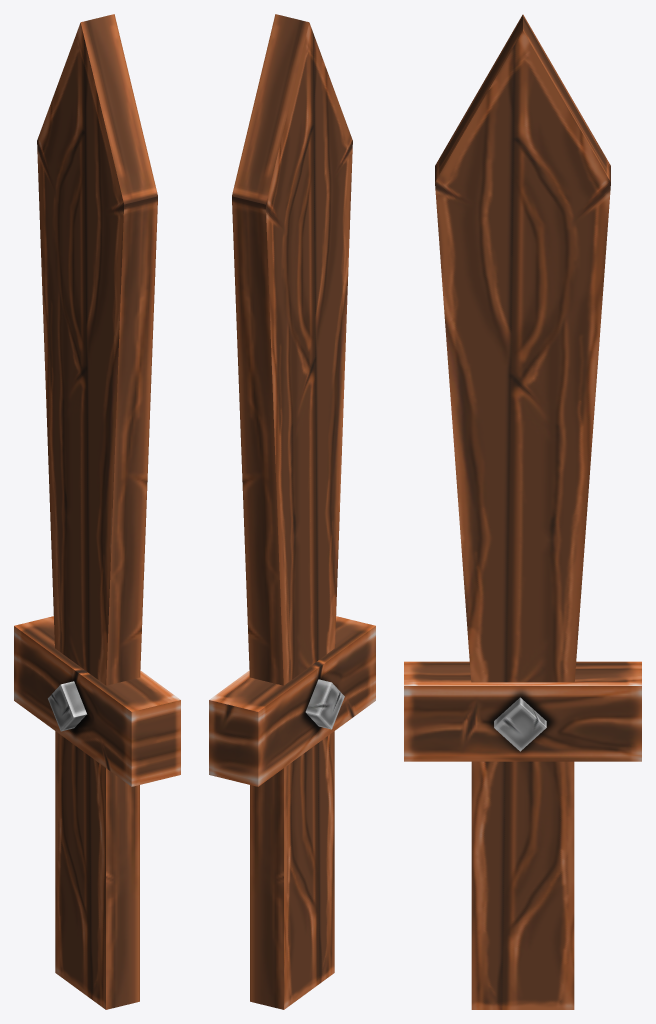
File: swordWooden.FBX
The picture shows the model from 3 angles, left to right: view 1: azimuth 30°, elevation 25°; view 2: azimuth 150°, elevation 25°; view 3: azimuth 270°, elevation 25°; orthographic projection.
Visible parts, largest first — view 1: swordWooden; view 2: swordWooden; view 3: swordWooden.
Part boxes in pixels (<box>): swordWooden: <box>14,14,180,1009</box>; swordWooden: <box>209,14,375,1009</box>; swordWooden: <box>404,14,641,1009</box>.
Size of the model in its own units: 12 by 145 by 32.
